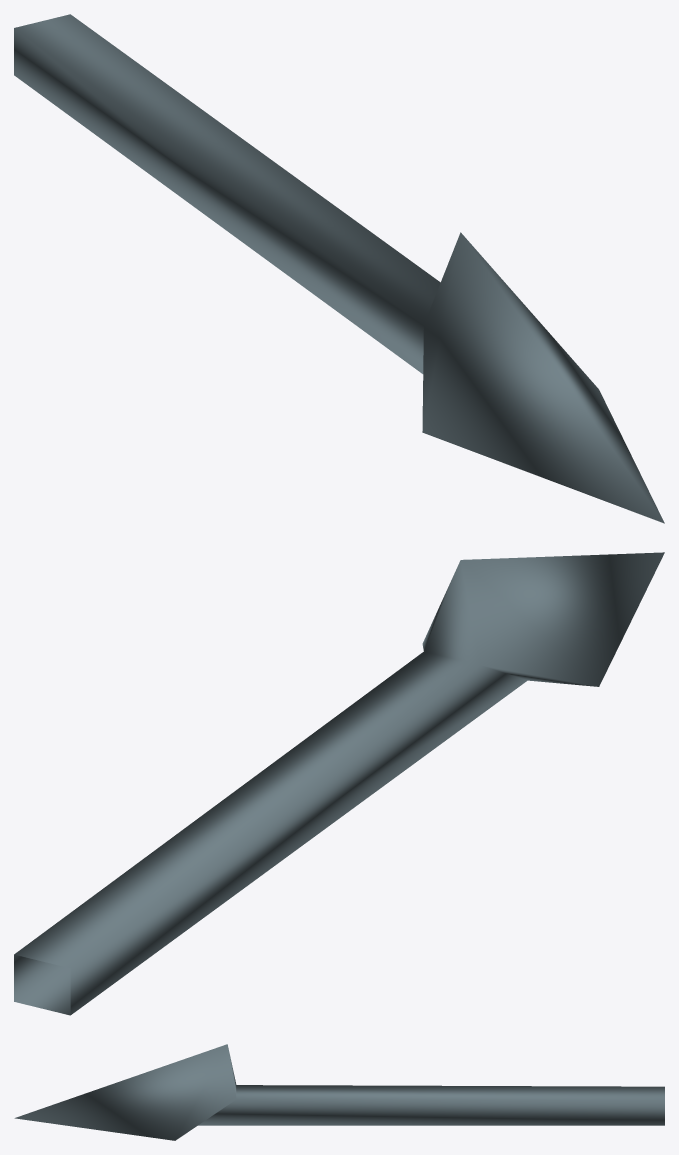
The model's file is Dice_Turret_wepon.fbx.
The picture shows the model from 3 angles, top to bottom: view 1: azimuth 30°, elevation 25°; view 2: azimuth 150°, elevation 25°; view 3: azimuth 270°, elevation 25°; orthographic projection. The views are drawn at different scales.
Visible parts, largest first — view 1: Dice_Turret_wepon; view 2: Dice_Turret_wepon; view 3: Dice_Turret_wepon.
Part boxes in pixels (left/top/right/bottom): Dice_Turret_wepon: left=14, top=14, right=664, bottom=523; Dice_Turret_wepon: left=14, top=552, right=664, bottom=1015; Dice_Turret_wepon: left=14, top=1044, right=664, bottom=1140.
Bounding box in the file's own units: 8.36 × 6.45 × 51.07.
